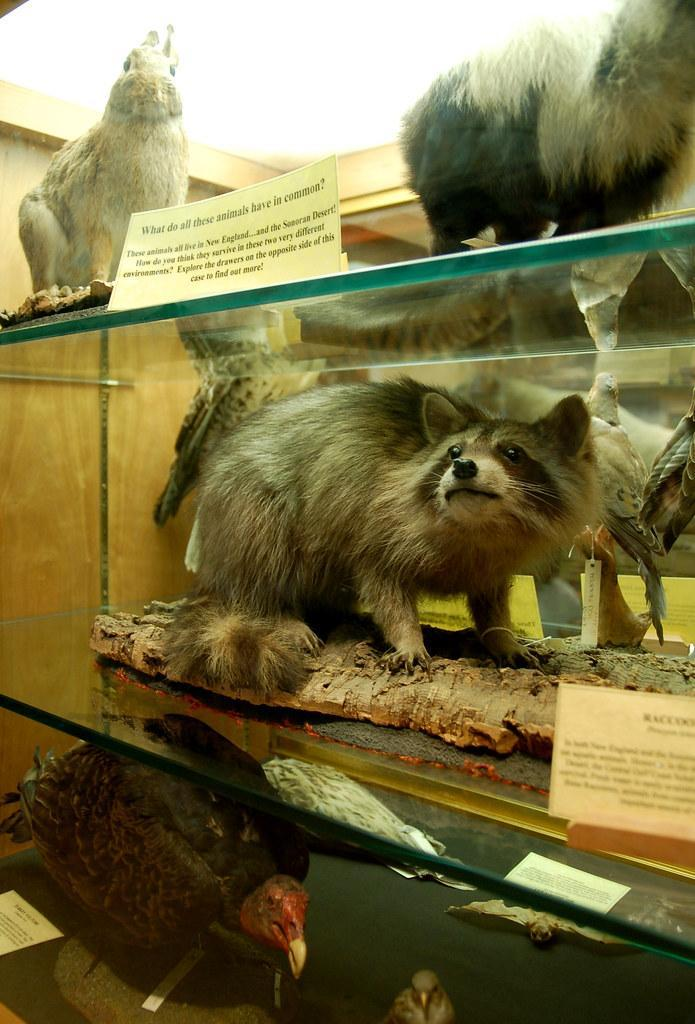raccoon: (173, 373, 602, 685)
